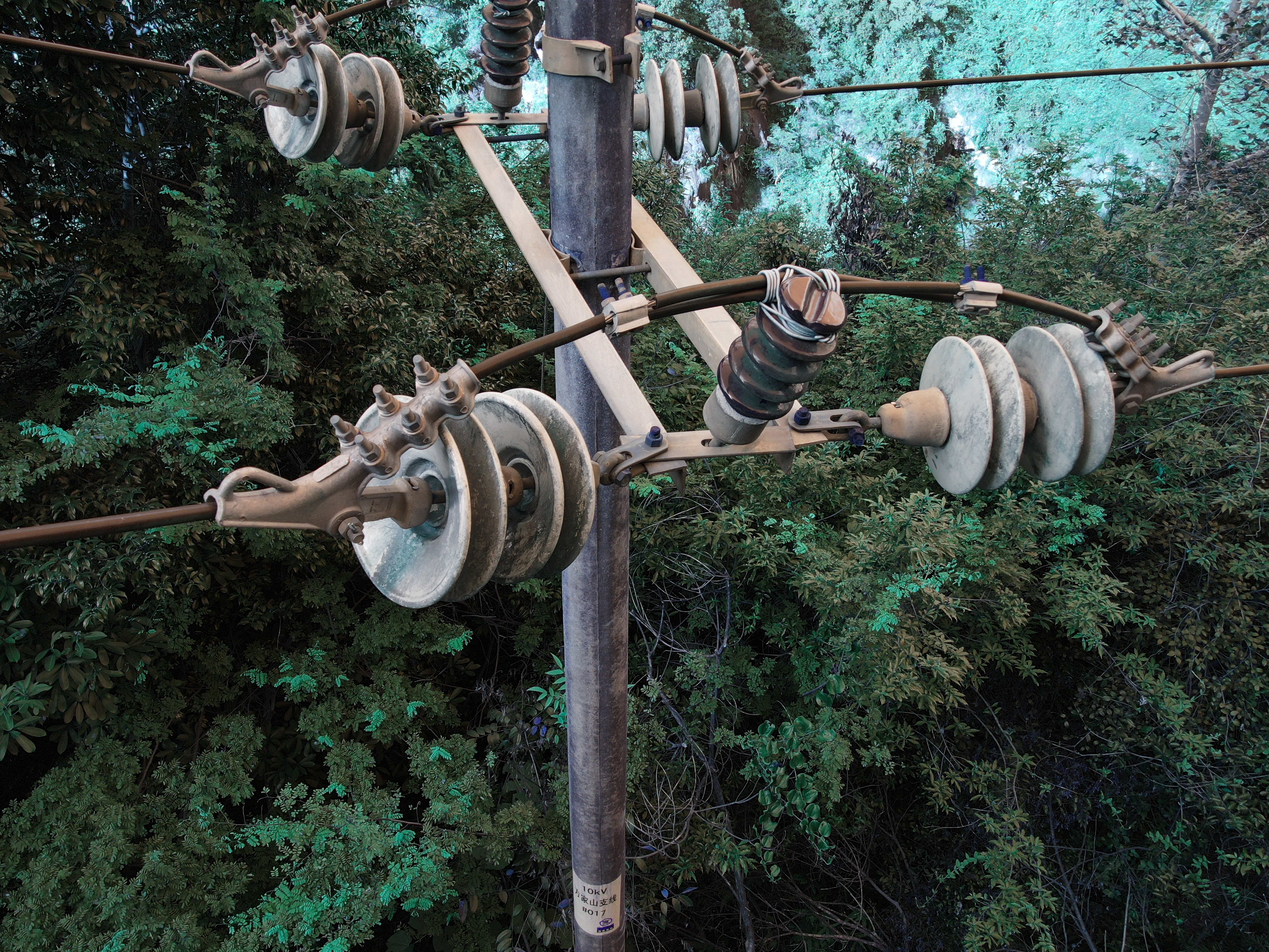severe_soiling_no_discharge_whole: (345, 383, 607, 608), (880, 321, 1120, 495), (266, 46, 418, 172), (633, 49, 746, 161)
